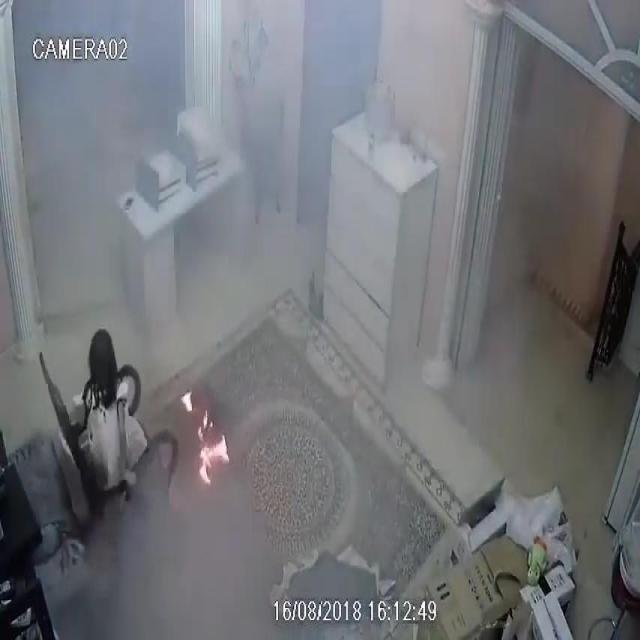fire: (198, 410, 229, 484)
